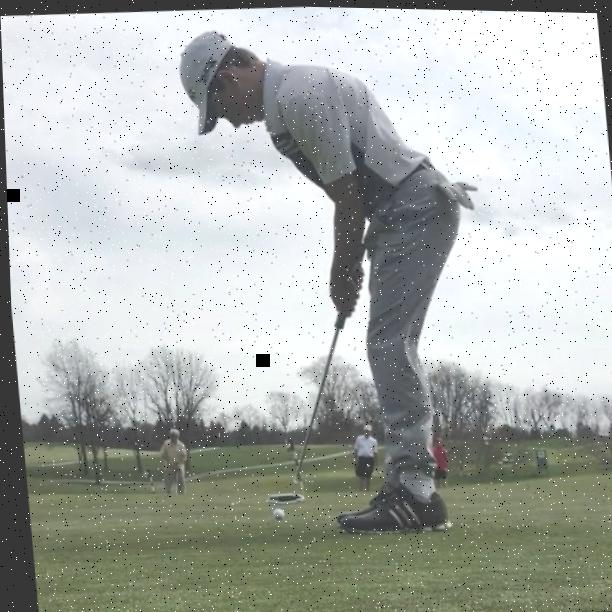ClubHead: (261, 489, 302, 505)
GolfBall: (268, 506, 281, 519)
